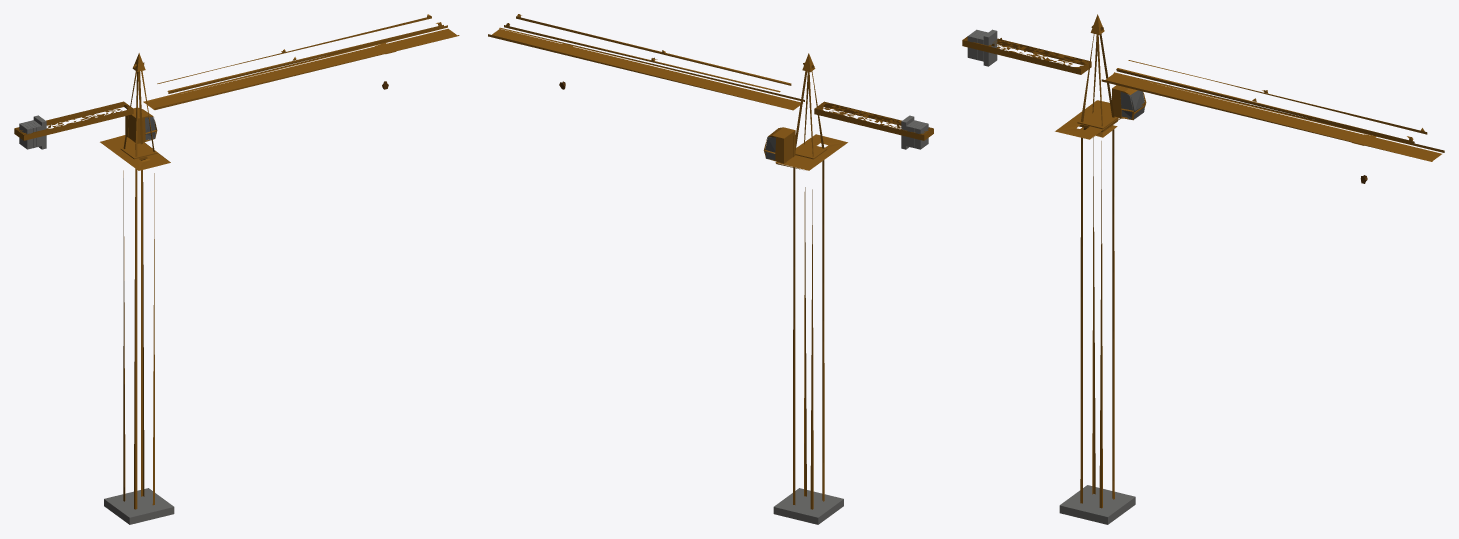
The model's file is tower-crane.zfix-v1.lod1.glb.
The picture shows the model from 3 angles, left to right: view 1: azimuth 30°, elevation 25°; view 2: azimuth 150°, elevation 25°; view 3: azimuth 330°, elevation 25°; orthographic projection. The views are drawn at different scales.
Visible parts, largest first — view 1: Cube.052_UV_0; view 2: Cube.052_UV_0; view 3: Cube.052_UV_0.
Boxes of the visible parts, <box> form: Cube.052_UV_0: <box>14,14,459,524</box>; Cube.052_UV_0: <box>488,14,933,524</box>; Cube.052_UV_0: <box>962,14,1444,524</box>.
Bounding box in the file's own units: 47.77 × 48 × 7.62.
